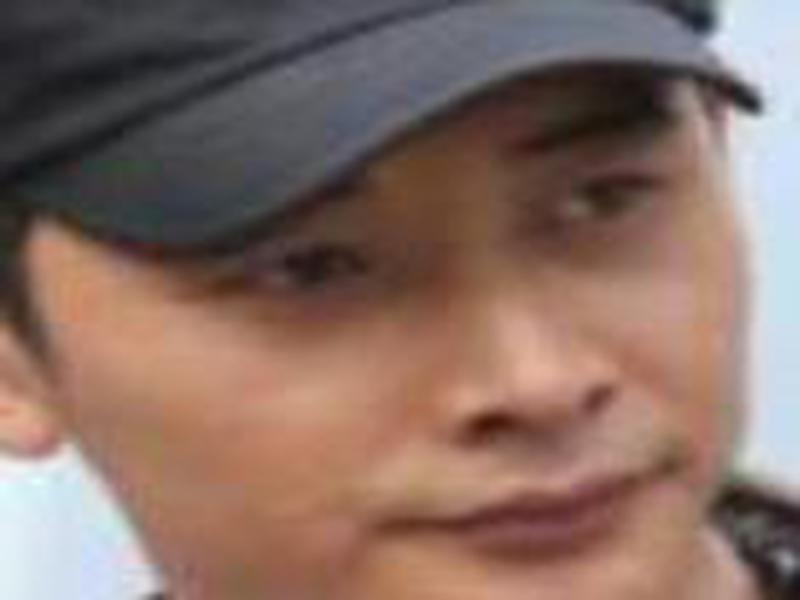without_mask: (40, 93, 755, 595)
